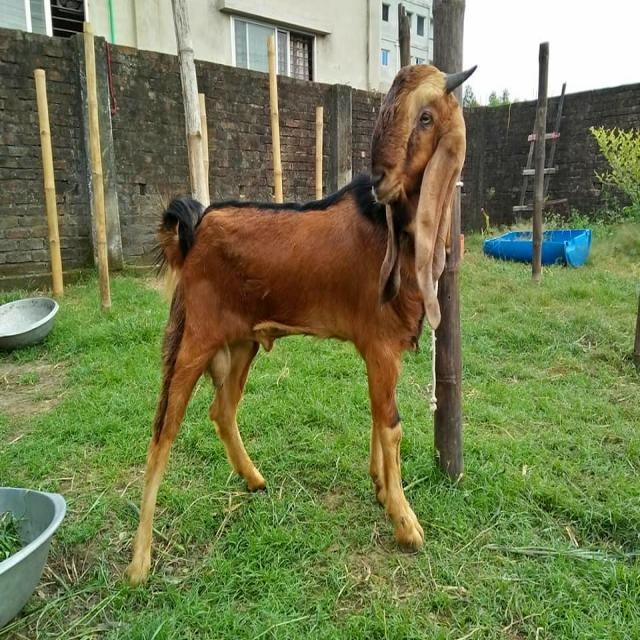Goat: (123, 61, 478, 587)
